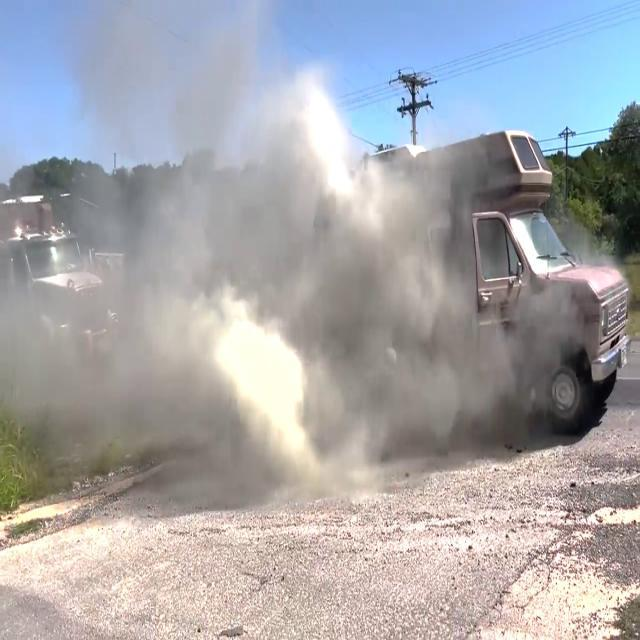Smoke: (0, 28, 616, 473)
